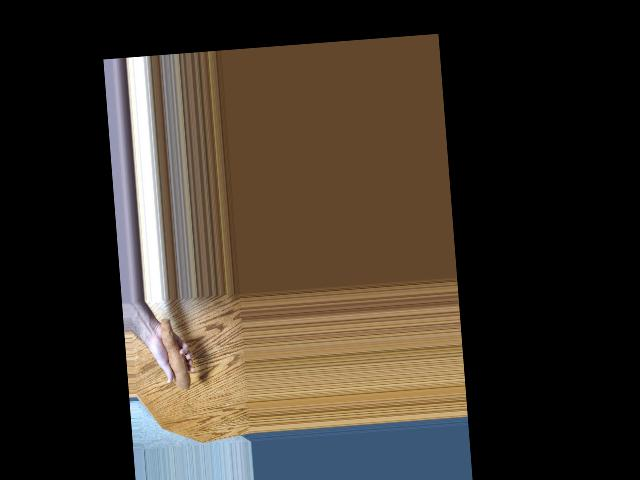sweet_potato: (159, 318, 191, 393)
